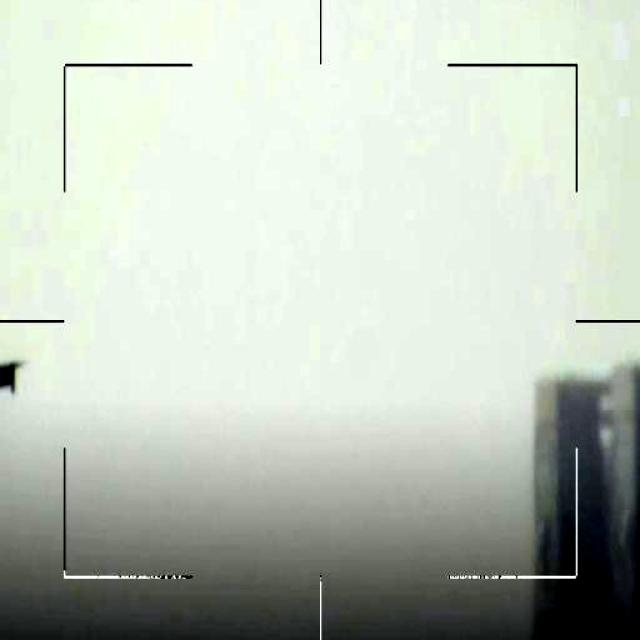bird: (0, 360, 26, 394)
